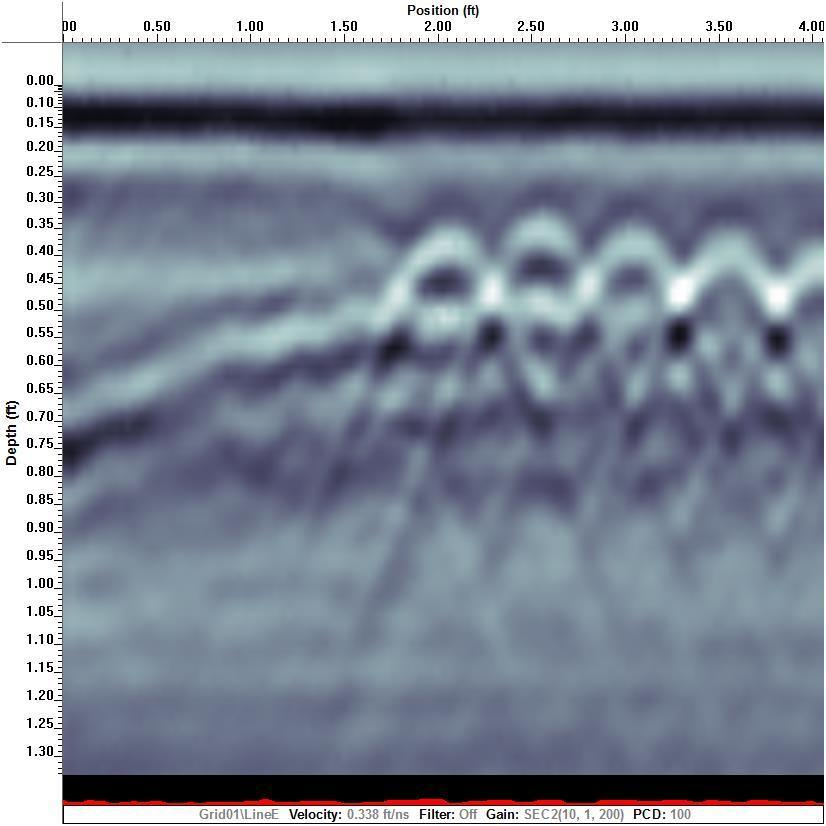hyperbola: (370, 222, 510, 502), (467, 209, 607, 489), (465, 207, 605, 487), (565, 221, 705, 501), (651, 224, 791, 504)
